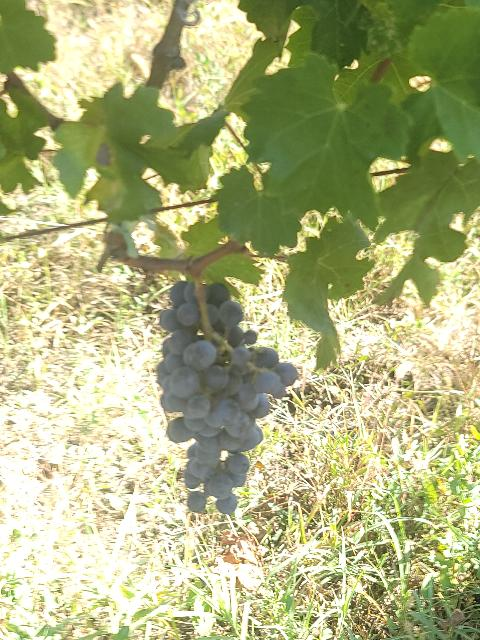grapes: (156, 281, 298, 514)
